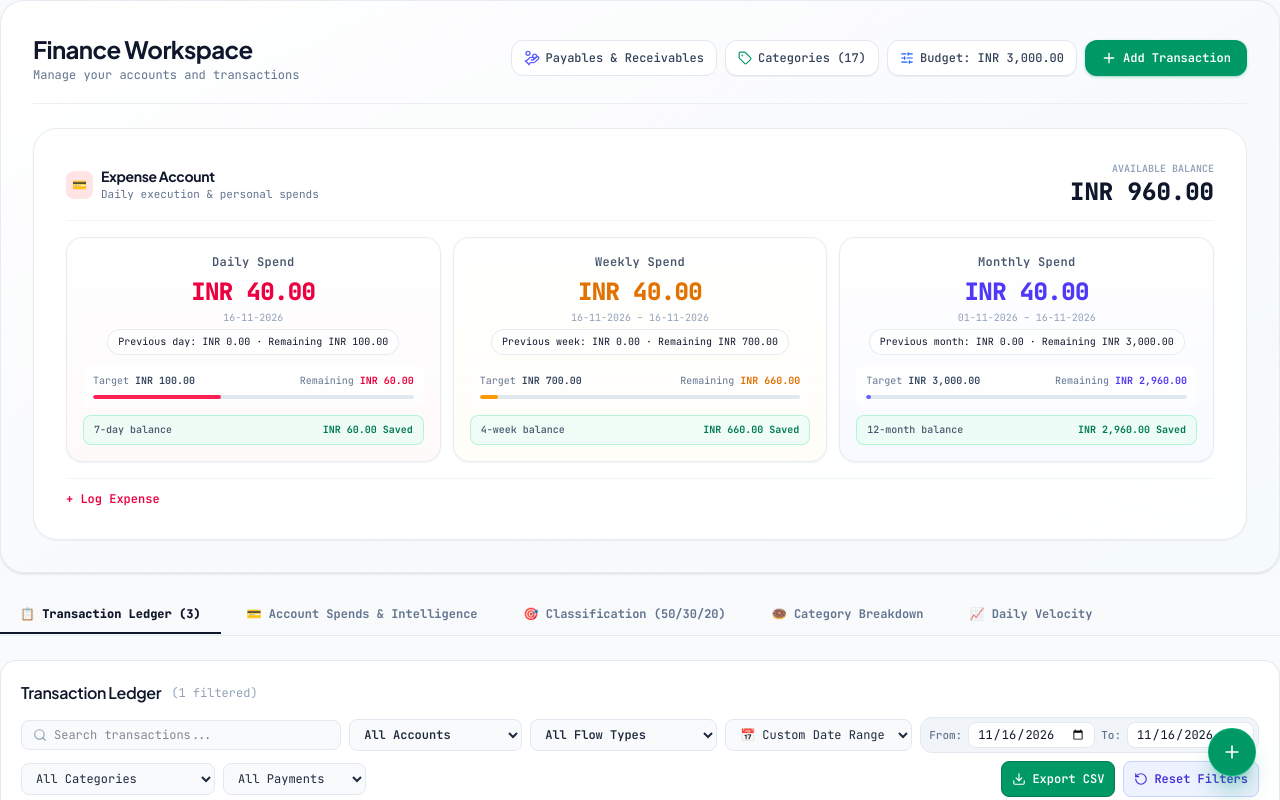
Test: opens the report for enabled accounts: {"cash":false,"savings":false}
Click the button "💳 Account Spends & Intelligence".
click(362, 616)  # box [227, 597, 498, 634]
(page scrolled)
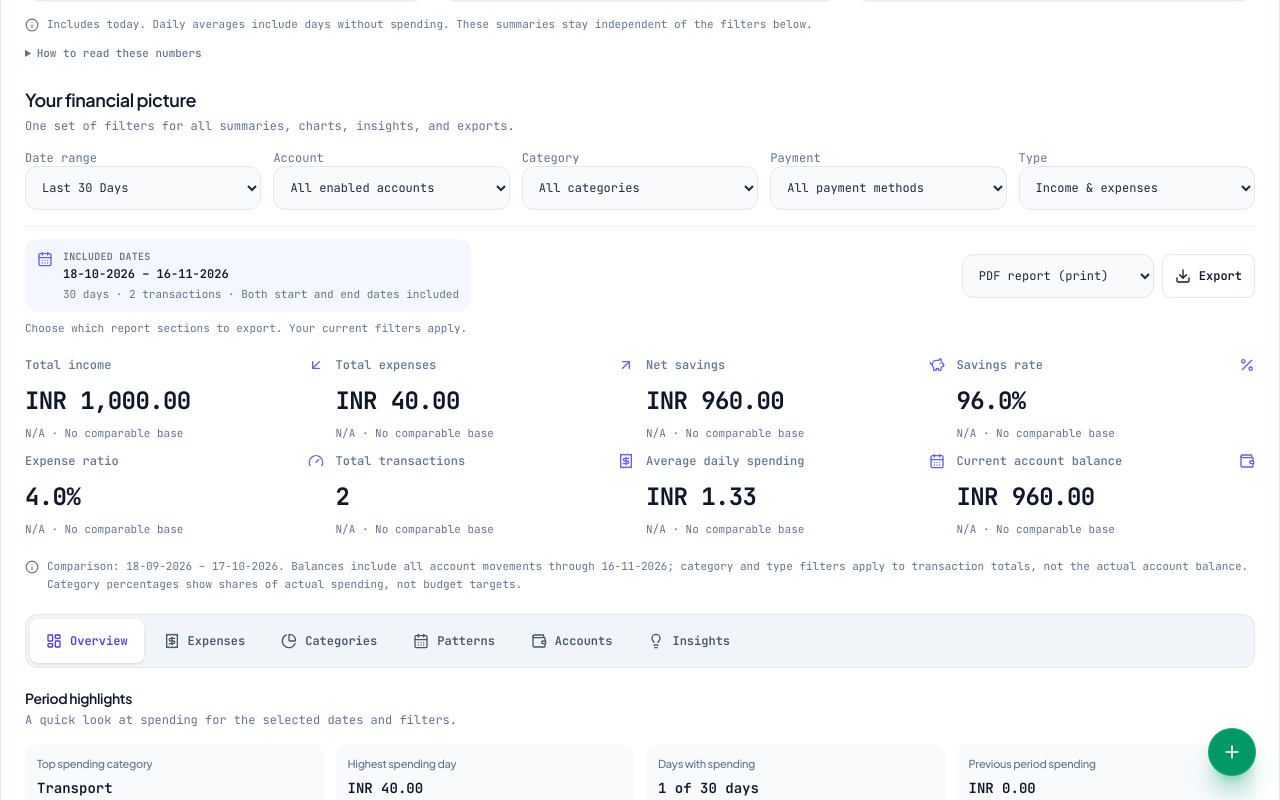
expect the text "INR 40.00" below "Total expenses" is shown: met, box [336, 385, 460, 416]
